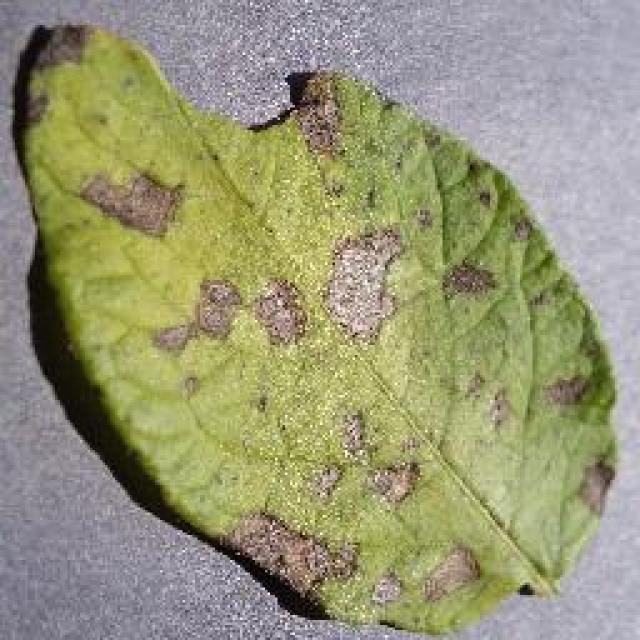early_blight: (8, 18, 622, 638)
